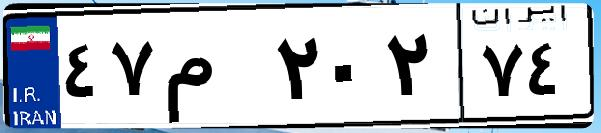0: (330, 28, 385, 110)
2: (270, 28, 330, 110), (385, 28, 445, 110)
4: (57, 26, 110, 100), (525, 38, 570, 115)
7: (475, 38, 525, 113), (110, 28, 158, 98)
م: (158, 20, 270, 120)
